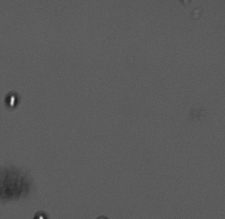Living Cell: (4, 90, 21, 110)
